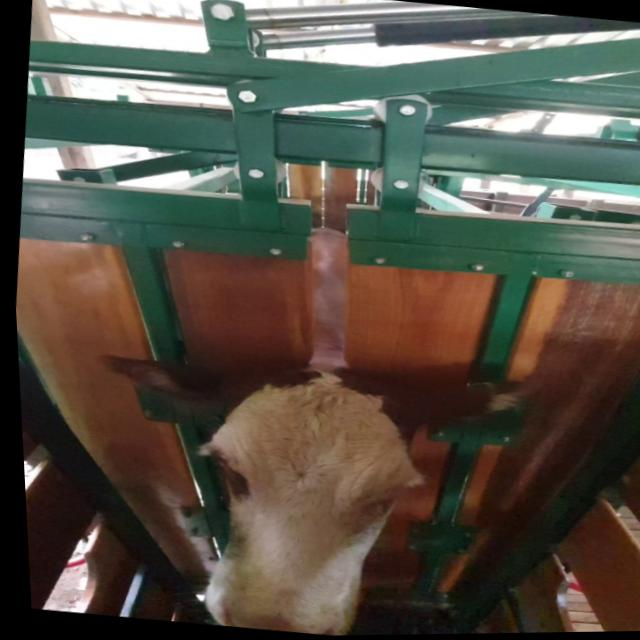cowFace: (184, 362, 432, 638)
